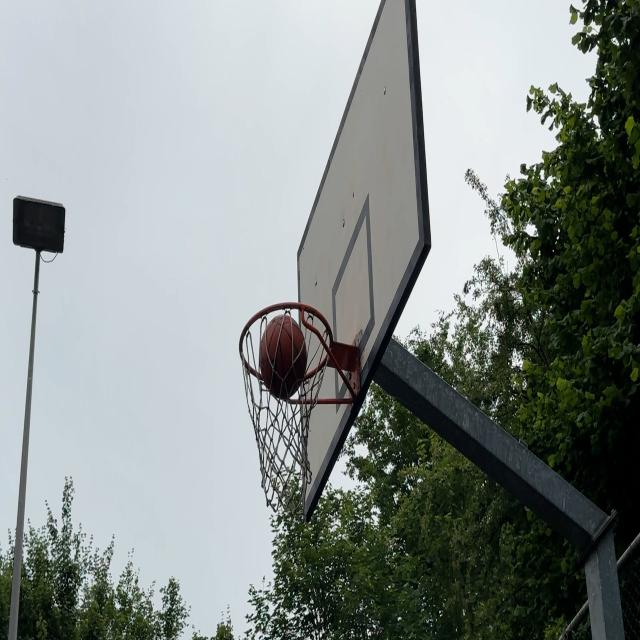Goal: (260, 318, 308, 397)
